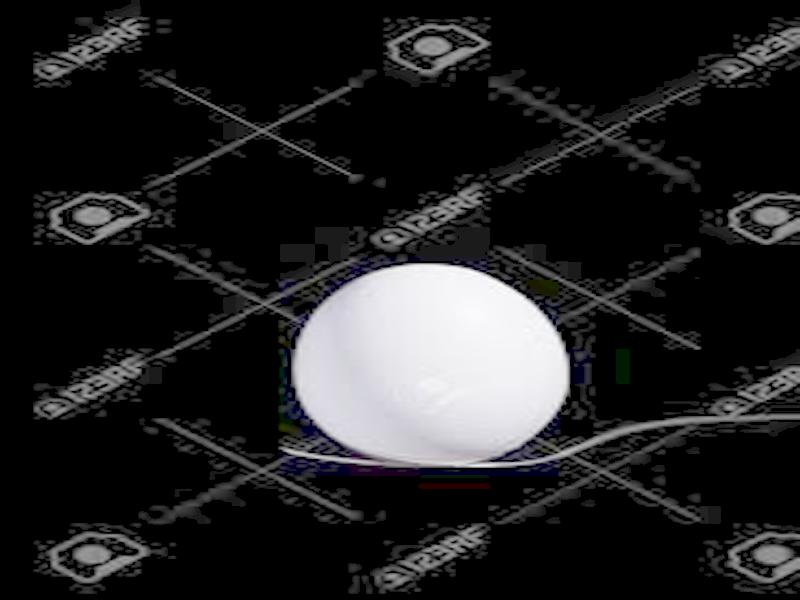Eggs: (293, 266, 568, 465)
